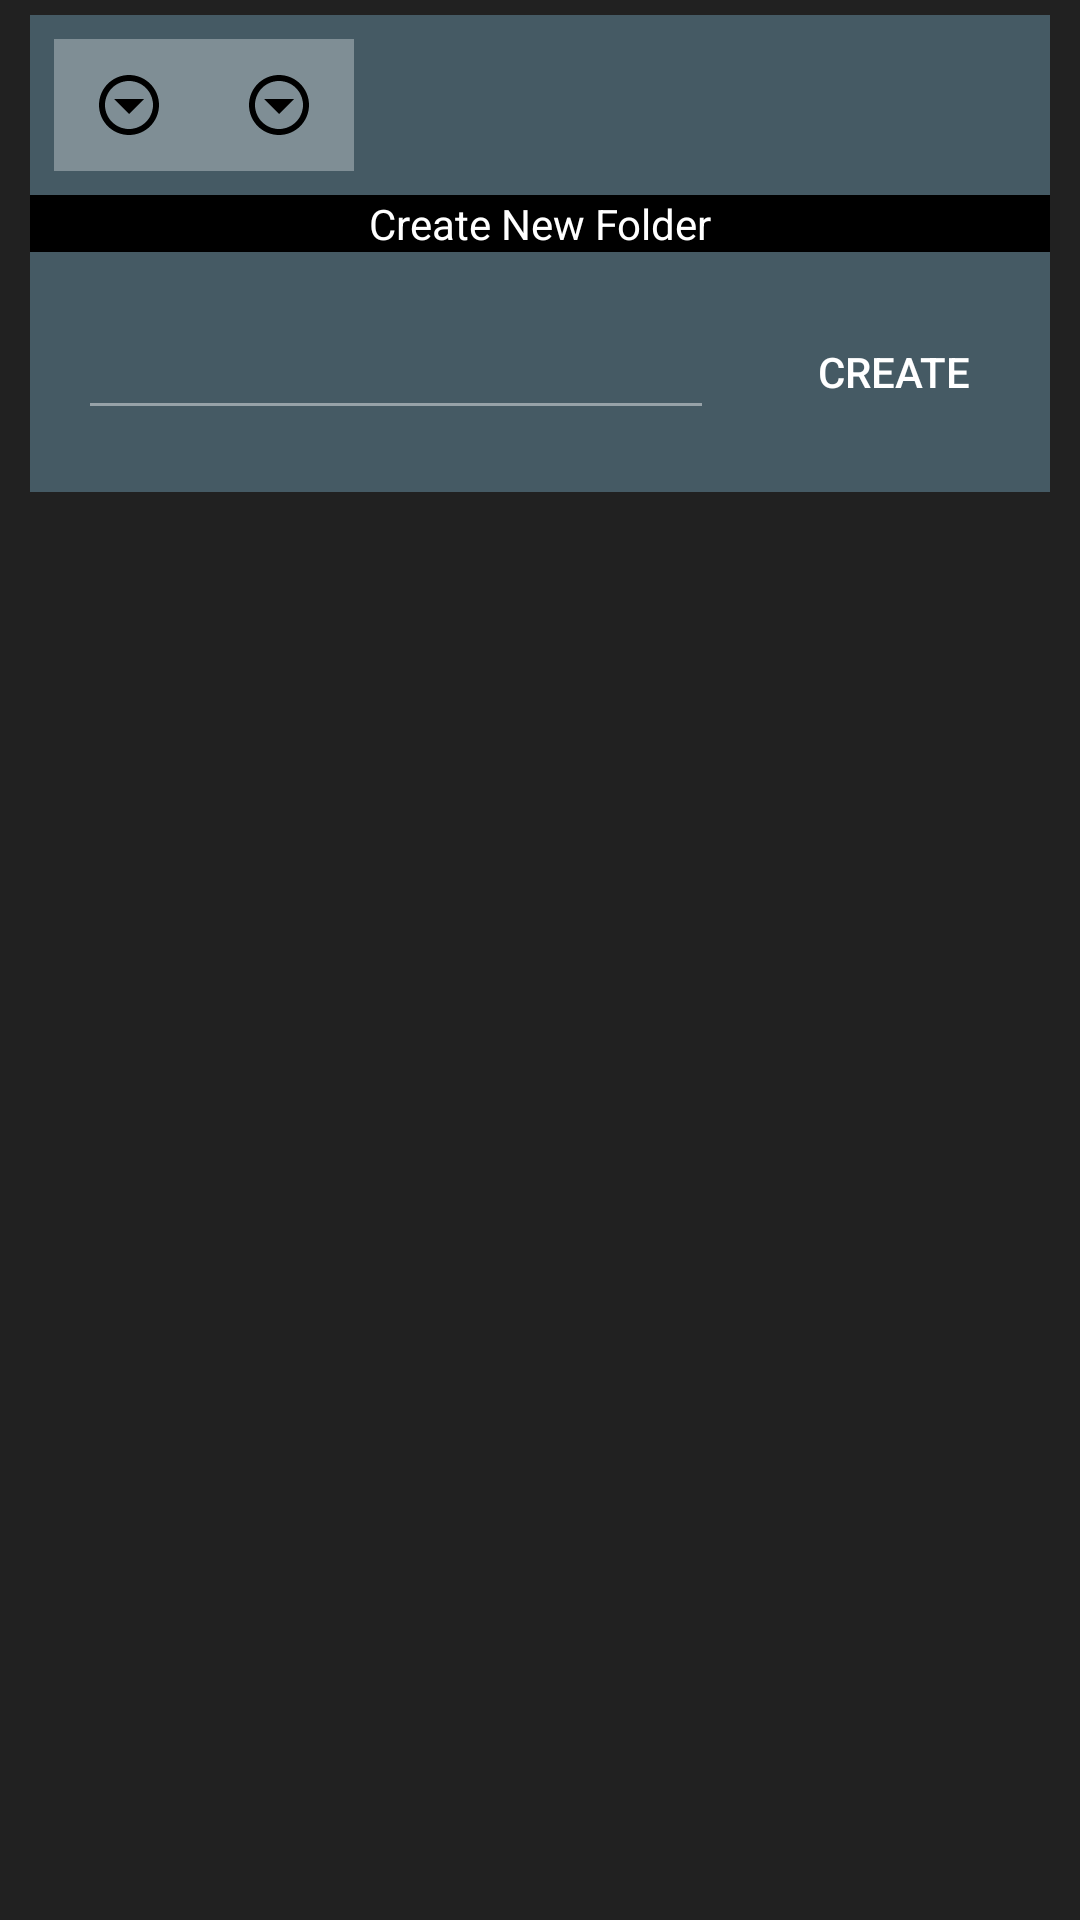

Named icons in this screenshot (1080 x 1920) and their centers, point (x, y):
arrow down: point (129, 105), point (279, 105)
